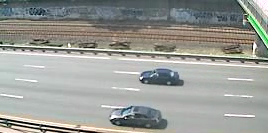car: (107, 103, 165, 130), (136, 66, 183, 87)
